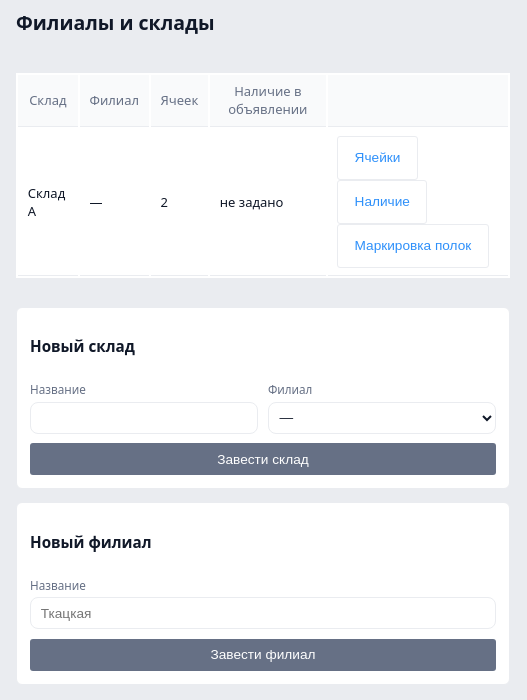
Scenario: прежние ячейки › не пропали и названы «не по схеме», адрес по схеме — без пометки
Expected: the text "Склад А" is shown, left=18, top=129, right=78, bottom=276
Click the button "Ячейки" at (377, 158), box left=337, top=136, right=418, bottom=180
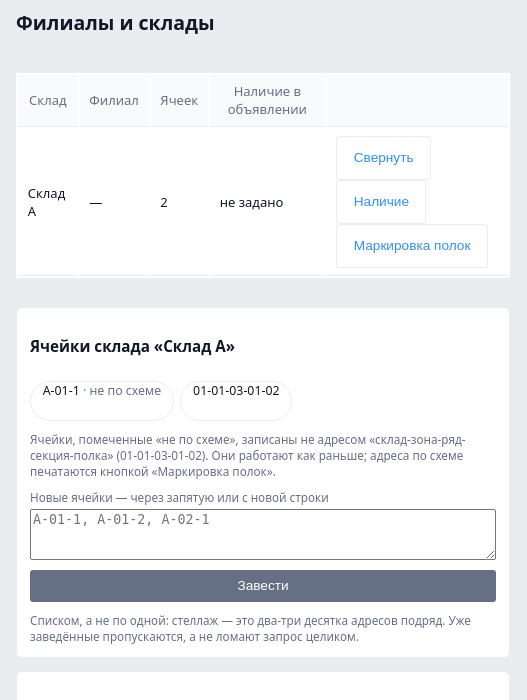
Expected: the text "А-01-1 · не по схеме" is shown, left=30, top=381, right=174, bottom=421
